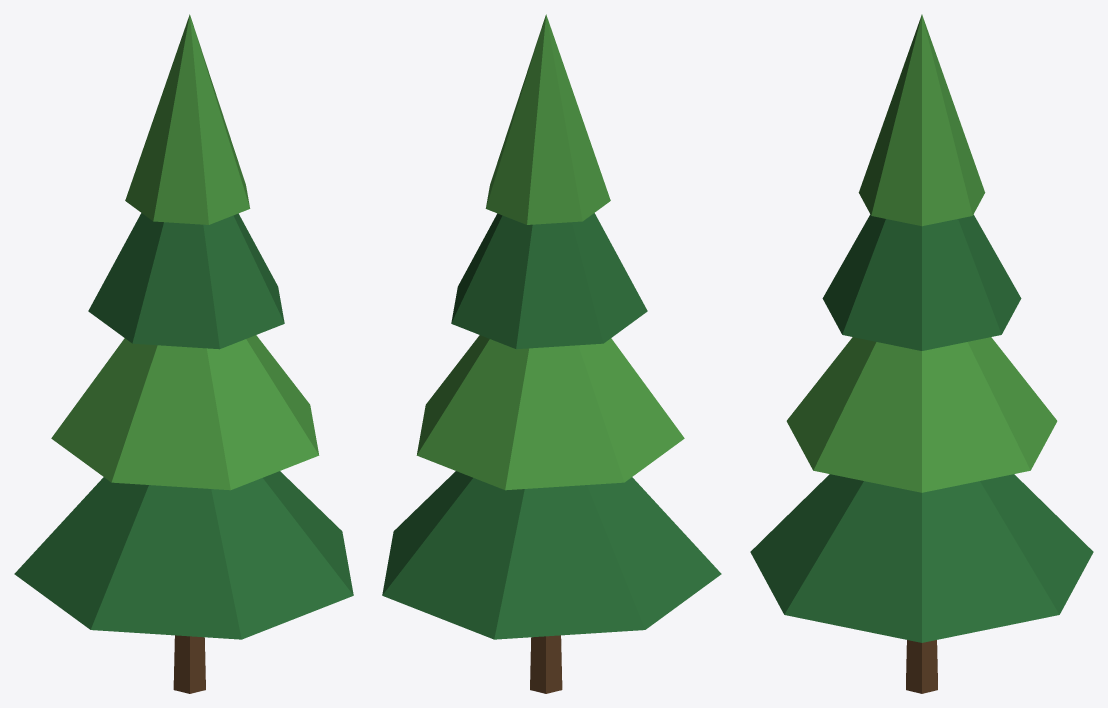
File: nat_pine.glb
The picture shows the model from 3 angles, left to right: view 1: azimuth 30°, elevation 25°; view 2: azimuth 150°, elevation 25°; view 3: azimuth 270°, elevation 25°; orthographic projection.
Visible parts, largest first — view 1: nat_pine__mesh; view 2: nat_pine__mesh; view 3: nat_pine__mesh.
Boxes of the visible parts, x1,y1,x2,y2 form: nat_pine__mesh: (14, 14, 353, 693); nat_pine__mesh: (382, 14, 721, 693); nat_pine__mesh: (750, 14, 1093, 693).
Size of the model in its own units: 3.61 by 8 by 3.7.
